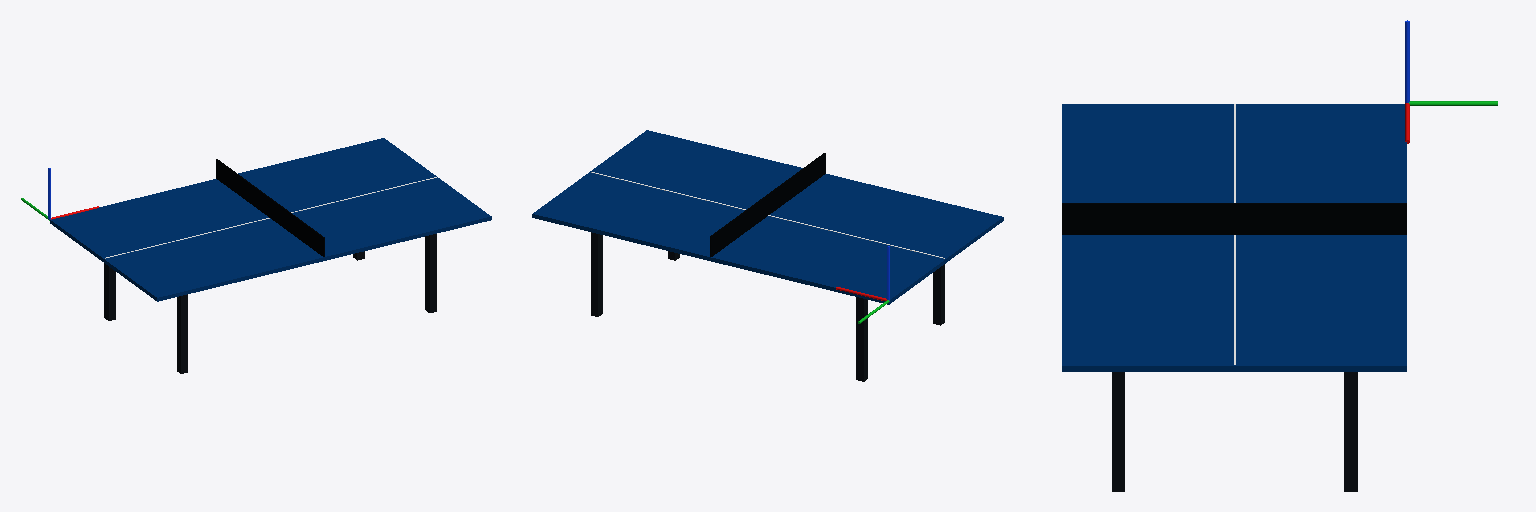
The robot description file, URDF, robot "hope_standard_ping_pong_table":
<?xml version="1.0"?>
<!--
  Visualization-only standard table-tennis table for Foxglove.

  HOPE world convention:
    origin: near-side left corner of the playing surface (P1 view)
    +X:     toward P2, along the 2.740 m length
    +Y:     left from P1; therefore the table occupies Y=[-1.525, 0]
    +Z:     up; the playing surface is Z=0 and the floor is Z=-0.760

  This asset has no collision or dynamics and must never be used for planning.
-->
<robot name="hope_standard_ping_pong_table">
  <material name="table_blue"><color rgba="0.02 0.23 0.46 1.0"/></material>
  <material name="edge_white"><color rgba="0.96 0.96 0.96 1.0"/></material>
  <material name="frame_dark"><color rgba="0.08 0.10 0.12 1.0"/></material>
  <material name="net_dark"><color rgba="0.03 0.04 0.05 0.72"/></material>
  <material name="axis_red"><color rgba="0.90 0.08 0.08 1.0"/></material>
  <material name="axis_green"><color rgba="0.08 0.75 0.18 1.0"/></material>
  <material name="axis_blue"><color rgba="0.08 0.30 0.95 1.0"/></material>

  <!-- The root link is the HOPE world frame at the table-surface corner. -->
  <link name="world"/>

  <link name="hope_tabletop">
    <visual>
      <geometry><box size="2.740 1.525 0.030"/></geometry>
      <material name="table_blue"/>
    </visual>
  </link>
  <joint name="world_to_hope_tabletop" type="fixed">
    <parent link="world"/><child link="hope_tabletop"/>
    <origin xyz="1.370 -0.7625 -0.015" rpy="0 0 0"/>
  </joint>

  <link name="hope_center_line">
    <visual>
      <geometry><box size="2.720 0.010 0.002"/></geometry>
      <material name="edge_white"/>
    </visual>
  </link>
  <joint name="world_to_hope_center_line" type="fixed">
    <parent link="world"/><child link="hope_center_line"/>
    <origin xyz="1.370 -0.7625 0.001" rpy="0 0 0"/>
  </joint>

  <link name="hope_net">
    <visual>
      <geometry><box size="0.010 1.525 0.1525"/></geometry>
      <material name="net_dark"/>
    </visual>
  </link>
  <joint name="world_to_hope_net" type="fixed">
    <parent link="world"/><child link="hope_net"/>
    <origin xyz="1.370 -0.7625 0.07625" rpy="0 0 0"/>
  </joint>

  <link name="hope_leg_near_left">
    <visual><geometry><box size="0.060 0.060 0.730"/></geometry><material name="frame_dark"/></visual>
  </link>
  <joint name="world_to_hope_leg_near_left" type="fixed">
    <parent link="world"/><child link="hope_leg_near_left"/>
    <origin xyz="0.350 -0.250 -0.395" rpy="0 0 0"/>
  </joint>

  <link name="hope_leg_near_right">
    <visual><geometry><box size="0.060 0.060 0.730"/></geometry><material name="frame_dark"/></visual>
  </link>
  <joint name="world_to_hope_leg_near_right" type="fixed">
    <parent link="world"/><child link="hope_leg_near_right"/>
    <origin xyz="0.350 -1.275 -0.395" rpy="0 0 0"/>
  </joint>

  <link name="hope_leg_far_left">
    <visual><geometry><box size="0.060 0.060 0.730"/></geometry><material name="frame_dark"/></visual>
  </link>
  <joint name="world_to_hope_leg_far_left" type="fixed">
    <parent link="world"/><child link="hope_leg_far_left"/>
    <origin xyz="2.390 -0.250 -0.395" rpy="0 0 0"/>
  </joint>

  <link name="hope_leg_far_right">
    <visual><geometry><box size="0.060 0.060 0.730"/></geometry><material name="frame_dark"/></visual>
  </link>
  <joint name="world_to_hope_leg_far_right" type="fixed">
    <parent link="world"/><child link="hope_leg_far_right"/>
    <origin xyz="2.390 -1.275 -0.395" rpy="0 0 0"/>
  </joint>

  <!-- A 0.40 m RGB axis triad makes the HOPE orientation visually explicit. -->
  <link name="hope_axis_x">
    <visual><geometry><cylinder radius="0.010" length="0.400"/></geometry><material name="axis_red"/></visual>
  </link>
  <joint name="world_to_hope_axis_x" type="fixed">
    <parent link="world"/><child link="hope_axis_x"/>
    <origin xyz="0.200 0 0" rpy="0 1.57079632679 0"/>
  </joint>

  <link name="hope_axis_y">
    <visual><geometry><cylinder radius="0.010" length="0.400"/></geometry><material name="axis_green"/></visual>
  </link>
  <joint name="world_to_hope_axis_y" type="fixed">
    <parent link="world"/><child link="hope_axis_y"/>
    <origin xyz="0 0.200 0" rpy="-1.57079632679 0 0"/>
  </joint>

  <link name="hope_axis_z">
    <visual><geometry><cylinder radius="0.010" length="0.400"/></geometry><material name="axis_blue"/></visual>
  </link>
  <joint name="world_to_hope_axis_z" type="fixed">
    <parent link="world"/><child link="hope_axis_z"/>
    <origin xyz="0 0 0.200" rpy="0 0 0"/>
  </joint>
</robot>

--- Render facts (derived) ---
The picture shows the robot from 3 angles, left to right: view 1: azimuth 30°, elevation 25°; view 2: azimuth 150°, elevation 25°; view 3: azimuth 270°, elevation 25°; orthographic projection.
Robot: hope_standard_ping_pong_table — 11 links, 10 joints (10 fixed); root link world; default pose: all joints at 0.
Visible links, largest first — view 1: hope_tabletop, hope_net, hope_leg_far_right, hope_leg_near_right, hope_leg_near_left; view 2: hope_tabletop, hope_net, hope_leg_far_left, hope_leg_near_left, hope_leg_near_right; view 3: hope_tabletop, hope_net, hope_leg_far_left, hope_leg_far_right.
Link boxes in pixels (x1,y1,x2,y2): hope_tabletop: (50, 138, 491, 301); hope_net: (216, 159, 324, 256); hope_leg_far_right: (425, 234, 436, 312); hope_leg_near_right: (177, 294, 187, 373); hope_leg_near_left: (104, 263, 115, 320); hope_tabletop: (532, 130, 1003, 304); hope_net: (710, 153, 825, 256); hope_leg_far_left: (591, 232, 602, 316); hope_leg_near_left: (856, 297, 867, 381); hope_leg_near_right: (933, 264, 944, 325); hope_tabletop: (1062, 104, 1406, 371); hope_net: (1062, 203, 1406, 234); hope_leg_far_left: (1344, 372, 1357, 491); hope_leg_far_right: (1112, 372, 1124, 491).
Size in the robot's own frame: 2.75 by 1.93 by 1.16 metres.
Geometry: primitives only (box / cylinder / sphere), no mesh files.
